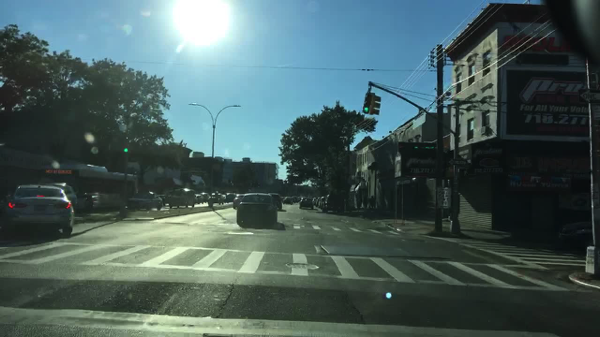car: (4, 184, 75, 238), (236, 193, 278, 228), (557, 221, 599, 251), (41, 183, 80, 213), (77, 185, 117, 210), (128, 191, 162, 211), (169, 190, 196, 208), (323, 197, 342, 213), (267, 192, 283, 211), (299, 197, 314, 210), (208, 192, 223, 205), (233, 195, 244, 210), (158, 194, 169, 205), (283, 196, 293, 206), (226, 193, 235, 204), (201, 192, 210, 203), (316, 198, 325, 208), (195, 195, 205, 203), (223, 194, 228, 205), (315, 198, 320, 206), (292, 196, 298, 202), (298, 197, 303, 202), (293, 198, 297, 204), (312, 197, 315, 205)
person: (368, 196, 377, 209), (363, 198, 369, 211)
traffic light: (371, 94, 381, 116), (362, 93, 371, 114), (460, 169, 469, 179), (122, 146, 129, 153)
traffic sign: (577, 89, 599, 104), (449, 159, 467, 166)
